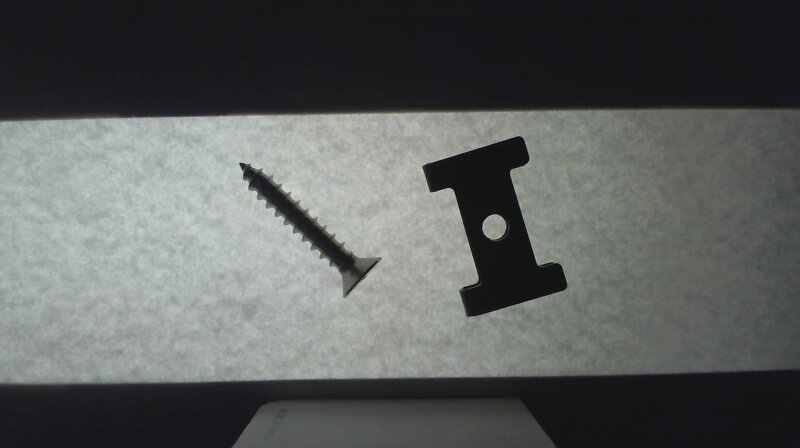O002: (424, 135, 570, 317)
S001: (238, 157, 382, 296)
